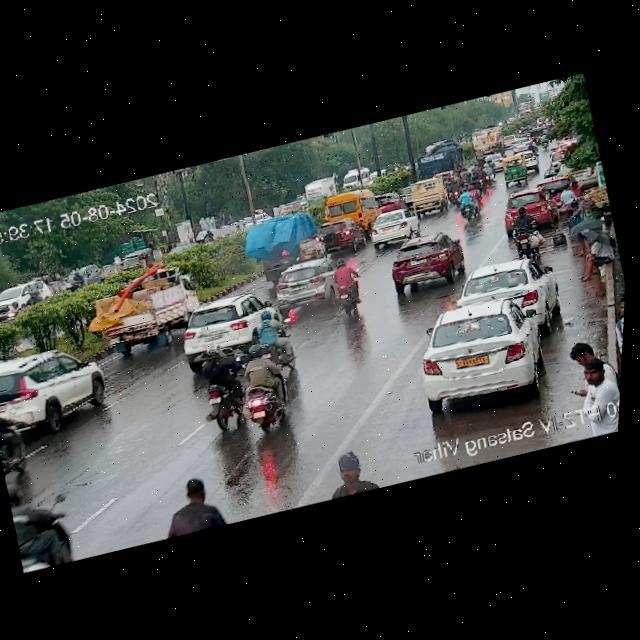car: (404, 289, 556, 413), (0, 333, 117, 442), (165, 285, 280, 365), (454, 249, 559, 326), (378, 227, 472, 297), (10, 491, 84, 571), (267, 251, 351, 316), (493, 183, 557, 234), (363, 205, 423, 250), (316, 214, 368, 257), (508, 201, 546, 258), (500, 161, 530, 186), (499, 152, 525, 169)
motorcycle: (233, 336, 296, 435), (191, 337, 250, 437), (248, 300, 311, 376), (158, 472, 228, 537), (328, 247, 375, 312), (452, 185, 485, 222), (464, 161, 495, 192)
person: (323, 443, 383, 498), (567, 235, 620, 287), (570, 355, 619, 403), (601, 291, 625, 378), (564, 193, 593, 256), (565, 335, 602, 375), (553, 182, 584, 217)
truck: (88, 260, 210, 362), (244, 212, 320, 278), (317, 183, 388, 235), (409, 136, 465, 180), (401, 174, 456, 216)
